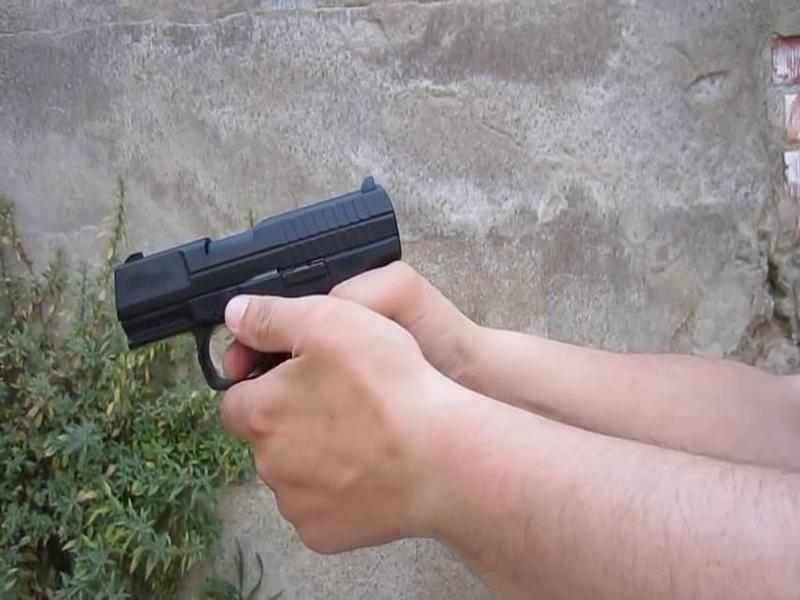Pistola: (92, 151, 417, 406)
